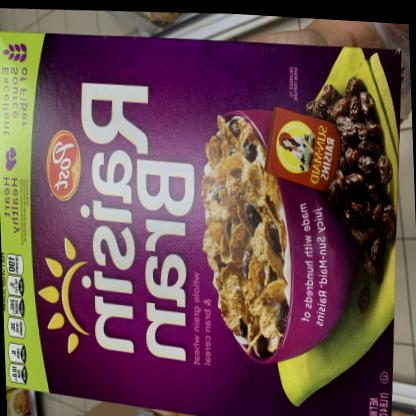cereal box: (0, 2, 416, 415)
